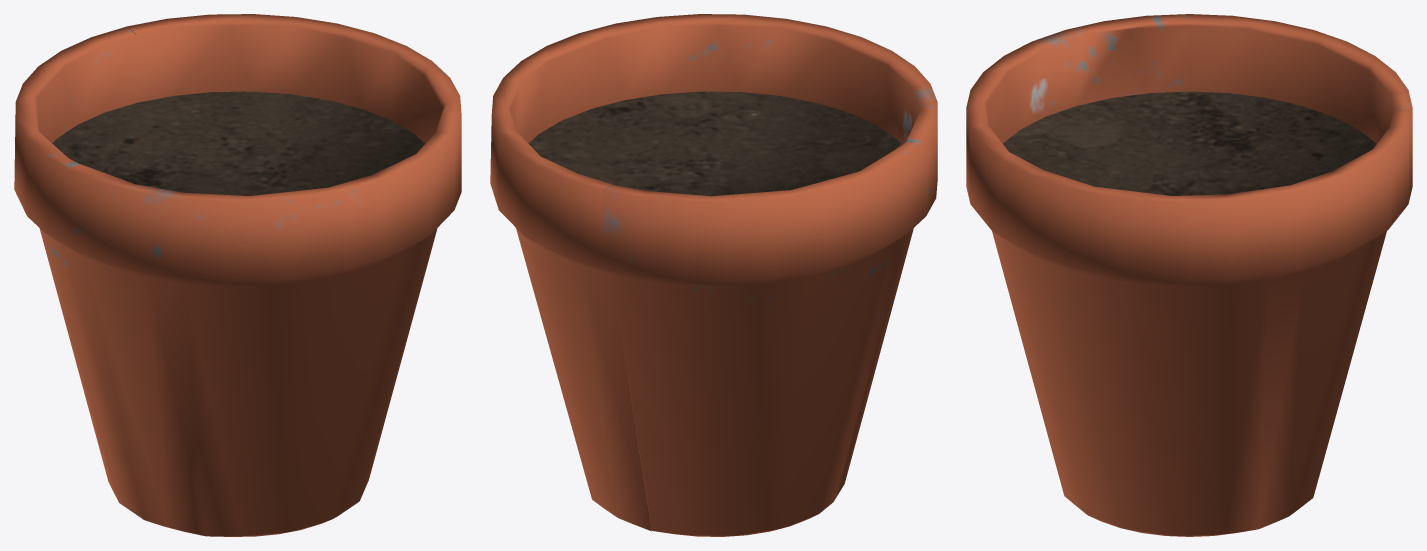
The model's file is mdl_paprika_pot2.gltf.
3 views of the same model, side by side, from view 1: azimuth 30°, elevation 25°; view 2: azimuth 150°, elevation 25°; view 3: azimuth 270°, elevation 25° (orthographic).
Visible parts, largest first — view 1: FlowerPotCLP3; view 2: FlowerPotCLP3; view 3: FlowerPotCLP3.
Boxes of the visible parts, bbox=[...] form: FlowerPotCLP3: bbox=[14, 14, 461, 536]; FlowerPotCLP3: bbox=[490, 14, 937, 536]; FlowerPotCLP3: bbox=[966, 14, 1412, 536].
Bounding box in the file's own units: 1.52 × 1.42 × 1.52.
Materials: 1 (1 with a texture image).
